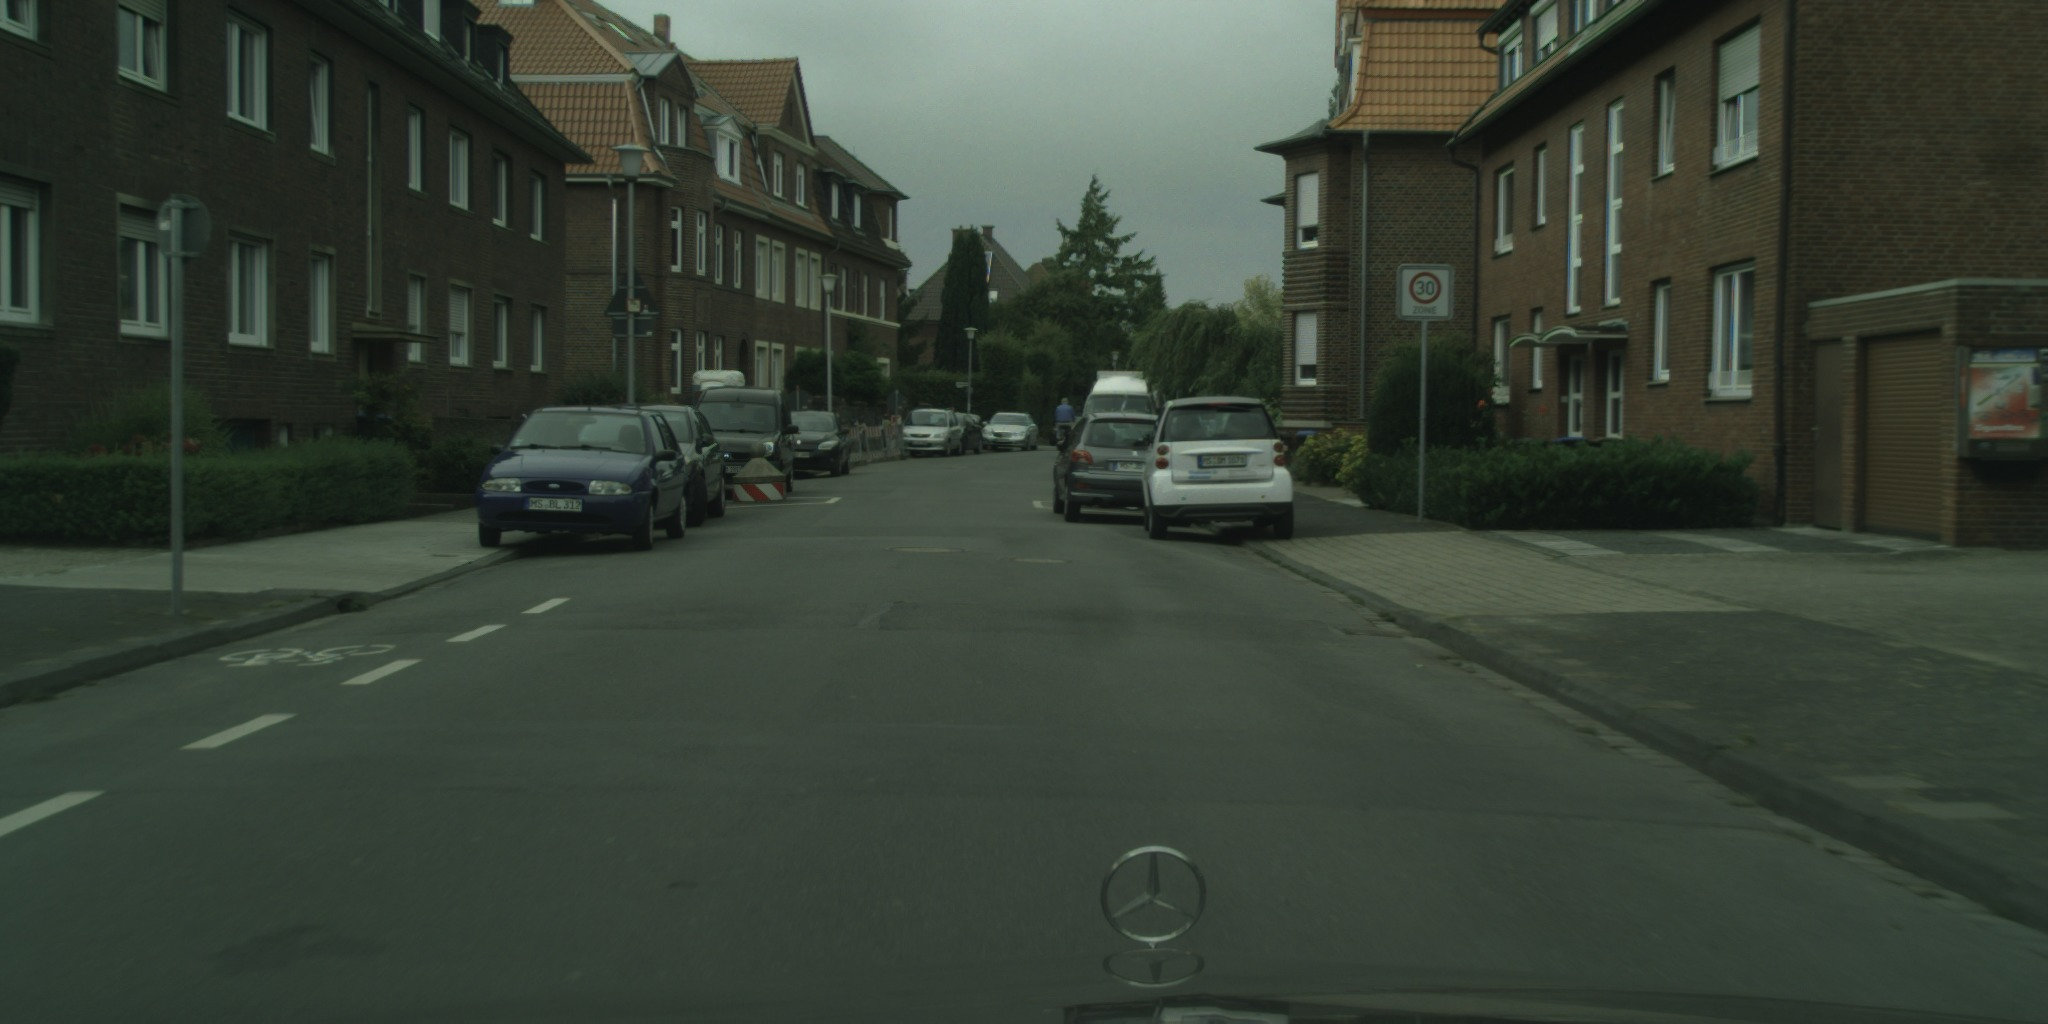bicycle: (1058, 425, 1070, 457)
car: (476, 404, 691, 551), (1133, 394, 1295, 540), (605, 403, 726, 528), (1052, 412, 1168, 524), (692, 386, 798, 496), (1081, 376, 1160, 452), (783, 408, 851, 477), (899, 408, 964, 459), (977, 410, 1039, 452), (944, 412, 984, 456), (1048, 413, 1085, 448)
rider: (1054, 397, 1076, 444)
